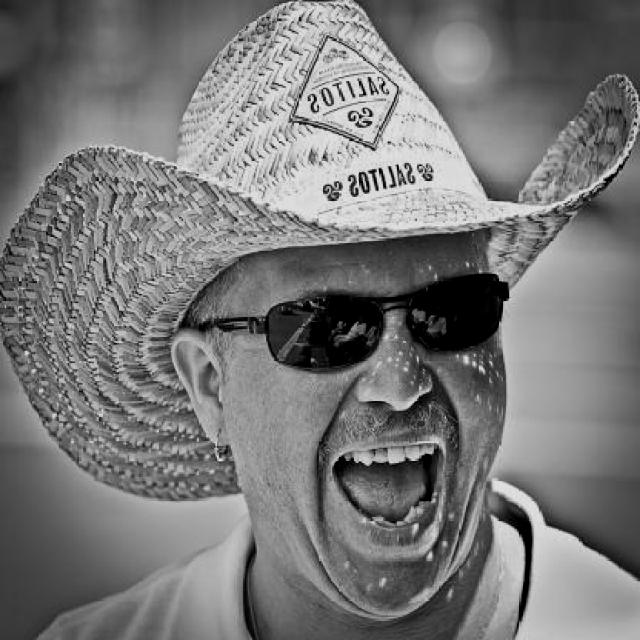face_nomask: (253, 270, 507, 547)
glasses: (210, 290, 519, 396)
head_nohelmet: (117, 71, 555, 282)
